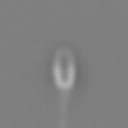normal: (52, 89, 76, 128)
